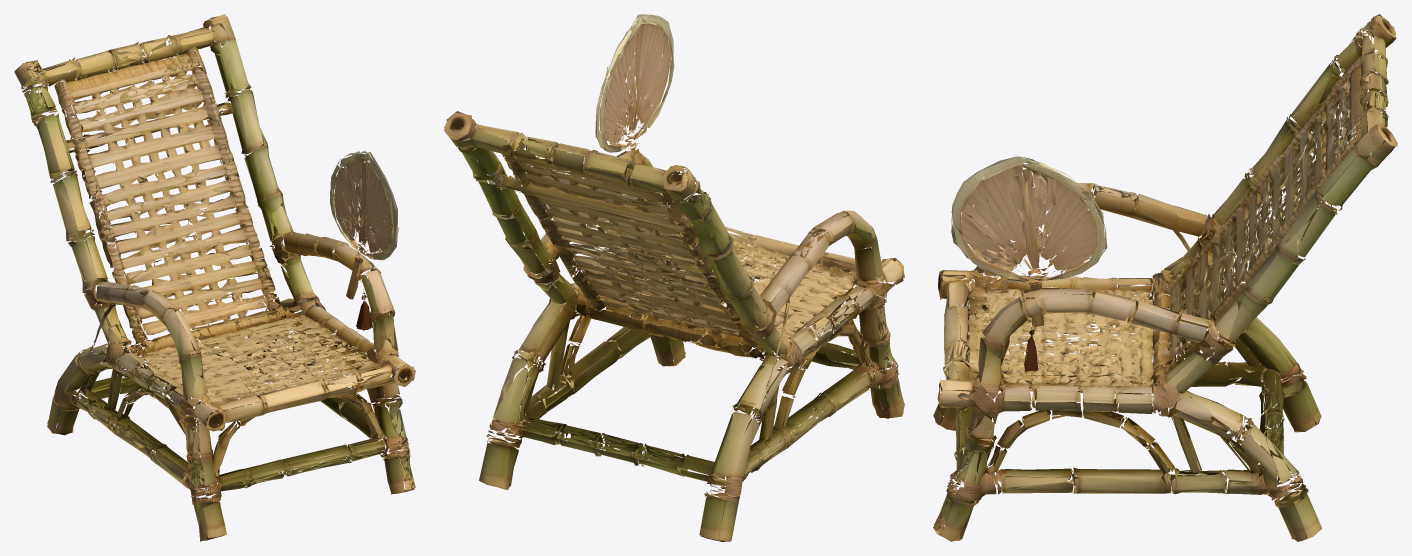
File: recliner.glb
The picture shows the model from 3 angles, left to right: view 1: azimuth 30°, elevation 25°; view 2: azimuth 150°, elevation 25°; view 3: azimuth 270°, elevation 25°; orthographic projection. The views are drawn at different scales.
Visible parts, largest first — view 1: node_0; view 2: node_0; view 3: node_0.
Part boxes in pixels (left/top/right/bottom): node_0: left=14, top=14, right=415, bottom=541; node_0: left=444, top=14, right=904, bottom=541; node_0: left=933, top=14, right=1397, bottom=541.
Size of the model in its own units: 0.5136 by 0.7909 by 0.8081.
1 material, 1 textured.
